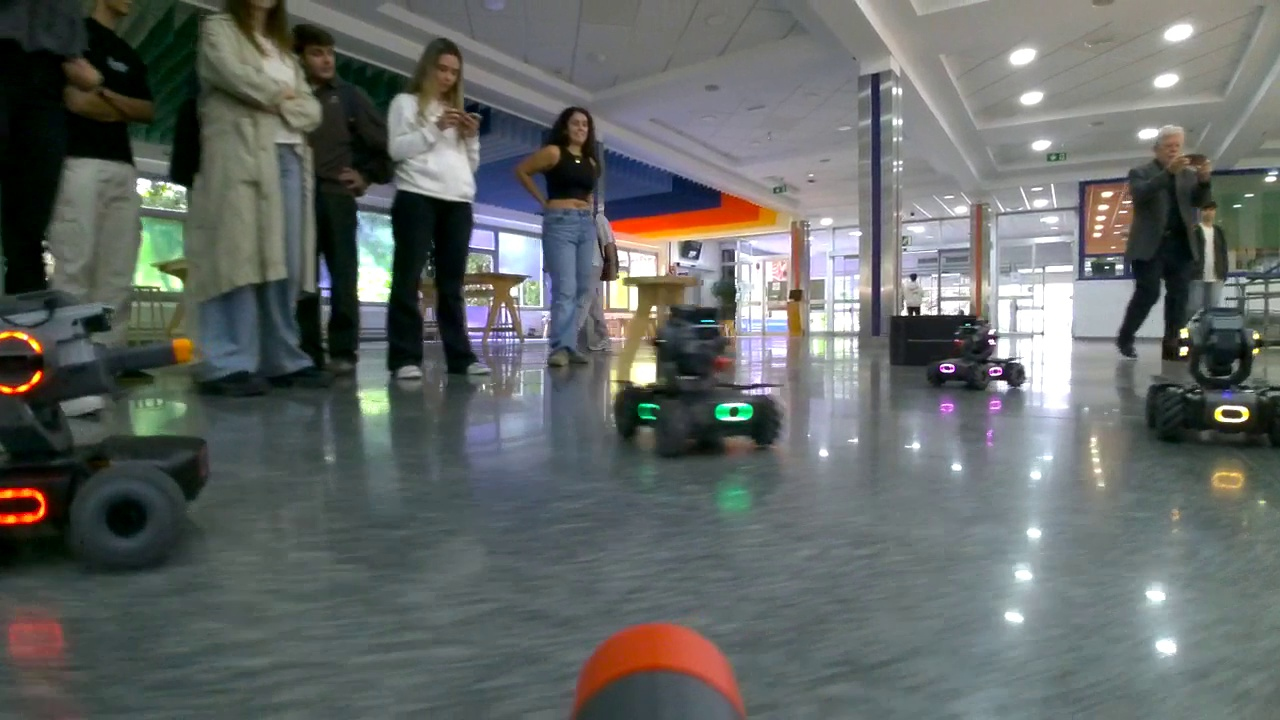robot: (1, 290, 214, 577), (611, 301, 786, 460), (1144, 309, 1278, 450), (928, 323, 1026, 391)
